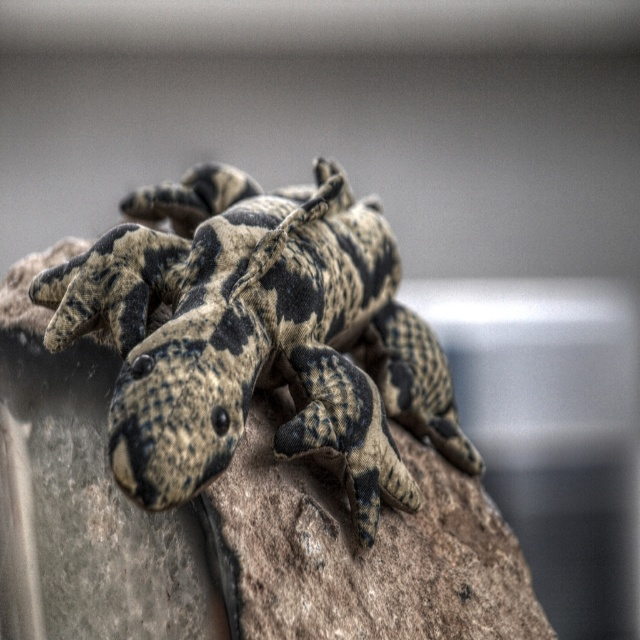Lizard: (64, 171, 511, 597)
